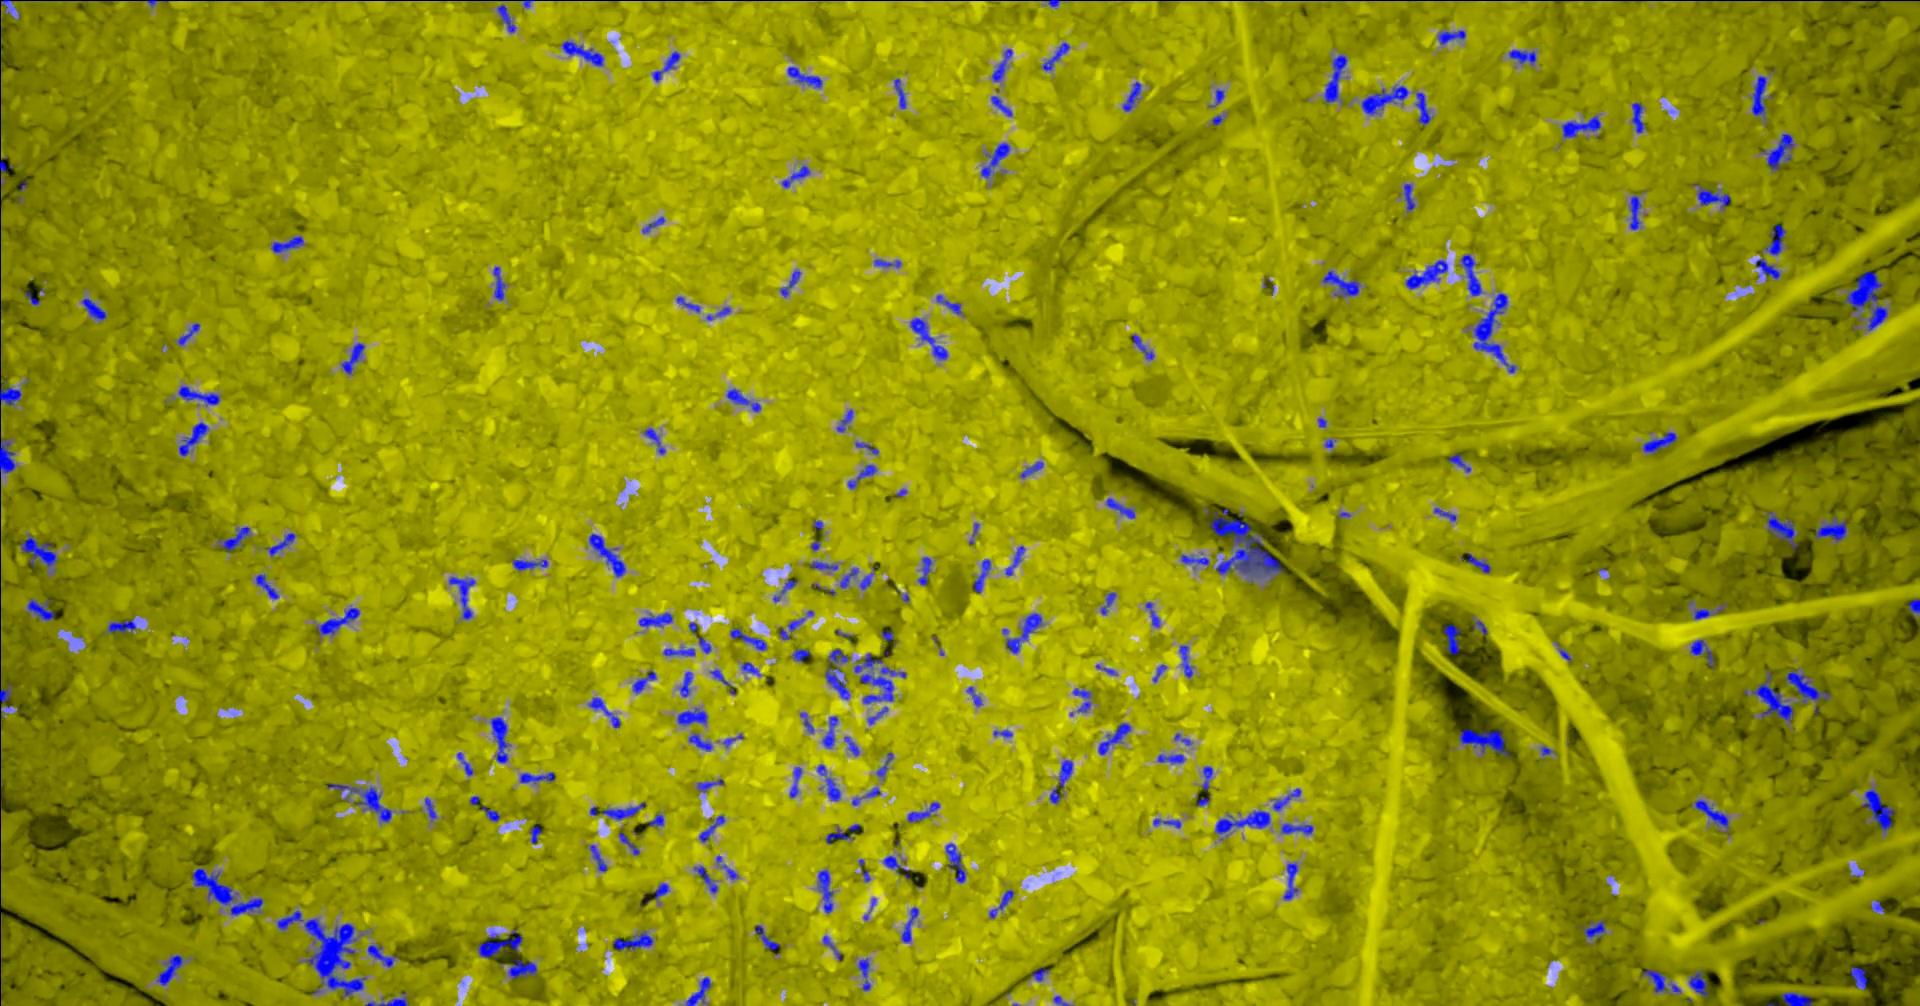ant: (1473, 292, 1515, 373), (190, 868, 262, 915), (855, 653, 905, 702), (328, 782, 391, 822), (1751, 671, 1793, 721), (1002, 612, 1041, 653), (909, 318, 947, 359), (588, 533, 625, 575), (1458, 728, 1509, 757), (1785, 669, 1830, 702), (1862, 788, 1895, 832), (1361, 85, 1408, 114), (824, 648, 850, 699), (1214, 810, 1270, 833), (1404, 259, 1448, 288), (19, 533, 57, 567), (477, 929, 522, 956), (1761, 133, 1793, 170), (316, 607, 359, 634), (1766, 511, 1796, 550), (561, 39, 603, 66), (448, 575, 474, 619), (1097, 721, 1130, 754), (1323, 55, 1346, 102), (178, 422, 208, 455), (980, 142, 1010, 177), (1641, 968, 1680, 993), (587, 697, 620, 727), (1694, 799, 1728, 827), (1322, 271, 1359, 296), (817, 763, 841, 800), (1691, 183, 1730, 206), (651, 51, 679, 81), (155, 954, 183, 984), (1561, 116, 1600, 137), (0, 366, 22, 405), (1815, 514, 1846, 541), (729, 627, 766, 650), (1460, 254, 1481, 295), (178, 385, 218, 405), (218, 526, 249, 553), (726, 387, 759, 412), (945, 843, 965, 882), (612, 931, 653, 950), (601, 801, 644, 819), (490, 716, 507, 762), (1043, 42, 1069, 70), (988, 889, 1013, 918), (684, 976, 710, 1005), (1642, 431, 1676, 452), (1750, 75, 1766, 119), (990, 48, 1012, 81), (847, 464, 876, 488), (265, 532, 295, 556), (1689, 639, 1713, 668), (754, 925, 778, 954), (787, 66, 822, 86), (342, 343, 364, 373), (367, 944, 397, 967), (817, 869, 832, 913), (693, 865, 717, 893), (0, 669, 11, 728), (900, 906, 918, 942), (907, 801, 938, 822), (698, 815, 724, 841), (709, 669, 735, 694), (883, 855, 909, 879), (1272, 788, 1300, 810), (25, 598, 55, 620), (1415, 91, 1432, 126), (255, 573, 278, 600), (1765, 224, 1784, 255), (781, 165, 809, 187), (1106, 497, 1134, 518), (973, 559, 990, 592), (643, 428, 665, 453), (0, 438, 15, 476), (1004, 545, 1023, 575), (778, 617, 805, 639), (632, 669, 655, 694), (778, 271, 800, 296), (1131, 334, 1153, 359), (364, 992, 408, 1005), (677, 708, 707, 725), (1688, 970, 1708, 997), (497, 4, 516, 32), (508, 959, 536, 978), (637, 612, 672, 627), (1755, 258, 1779, 279), (1123, 81, 1140, 111), (822, 935, 842, 960), (1283, 862, 1297, 899), (270, 236, 303, 251), (1443, 624, 1459, 654), (825, 826, 853, 843), (177, 323, 199, 344), (81, 298, 105, 319), (936, 293, 961, 312), (822, 716, 837, 748), (491, 265, 505, 300), (1448, 452, 1470, 473), (618, 831, 639, 854), (589, 843, 606, 871), (1465, 553, 1490, 572), (512, 558, 547, 570), (1178, 645, 1192, 677), (990, 95, 1012, 116), (1072, 688, 1090, 713), (688, 733, 712, 751), (1630, 102, 1644, 132), (1180, 554, 1208, 569), (857, 956, 870, 989), (105, 619, 135, 633), (1582, 920, 1605, 937), (1780, 992, 1812, 1005), (456, 751, 472, 775), (1437, 30, 1465, 44), (917, 556, 931, 584), (1058, 760, 1072, 788), (893, 77, 905, 108), (839, 567, 858, 587), (876, 752, 891, 777), (789, 766, 801, 796), (1629, 196, 1641, 229), (641, 216, 664, 232), (676, 296, 698, 312), (1020, 461, 1043, 478), (1850, 967, 1867, 989), (1509, 50, 1535, 64), (1145, 601, 1159, 627), (1280, 823, 1312, 835), (867, 706, 888, 724), (836, 409, 852, 431), (697, 779, 723, 793), (519, 772, 554, 782), (706, 306, 730, 320), (1100, 592, 1115, 614), (679, 671, 692, 696), (966, 686, 982, 706), (1403, 183, 1415, 210), (855, 441, 877, 453), (1432, 507, 1455, 520), (799, 713, 814, 732), (480, 805, 499, 821), (424, 796, 436, 821), (780, 579, 797, 594), (1153, 818, 1180, 828), (844, 735, 858, 754), (1030, 967, 1049, 981), (808, 560, 837, 569), (1201, 765, 1211, 790), (1208, 89, 1223, 105), (653, 883, 668, 899), (872, 258, 900, 267), (663, 648, 695, 655), (1157, 754, 1183, 763), (858, 573, 872, 589), (791, 648, 809, 661), (742, 662, 759, 674), (530, 824, 541, 843), (698, 636, 711, 653), (1472, 620, 1486, 634), (0, 158, 11, 174), (1909, 598, 1919, 616), (1693, 608, 1710, 619), (649, 813, 663, 826), (1049, 788, 1060, 803)
